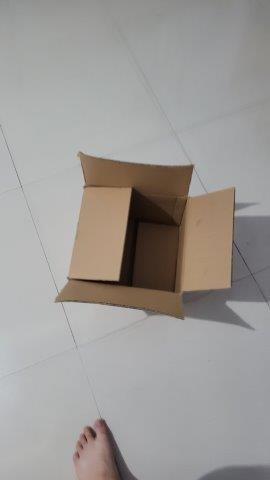kardus: (53, 152, 236, 320)
